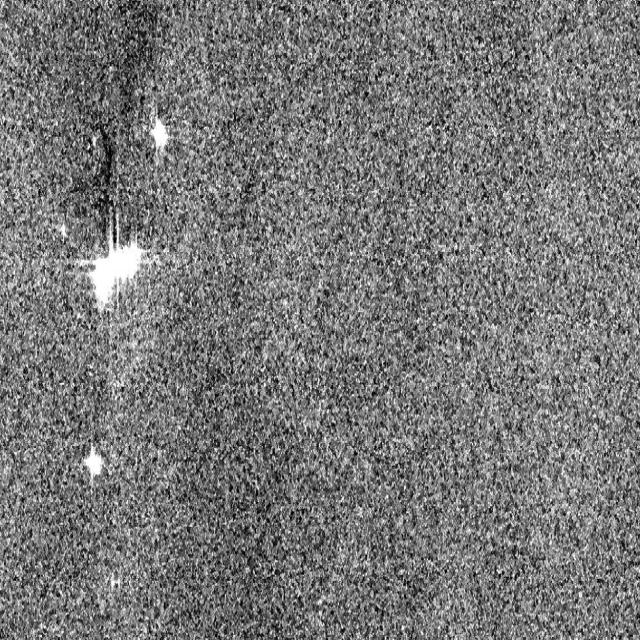oil-spill: (88, 115, 124, 229)
ship: (86, 233, 145, 315), (79, 432, 105, 490), (145, 113, 169, 155), (52, 216, 72, 248)
